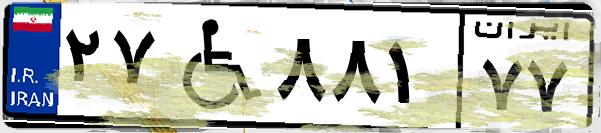1: (385, 28, 445, 110)
2: (57, 26, 110, 100)
7: (475, 38, 525, 113), (525, 38, 570, 115), (110, 28, 158, 98)
8: (270, 28, 330, 110), (330, 28, 385, 110)
ژ (معلولین و جانبازان): (158, 12, 270, 120)
